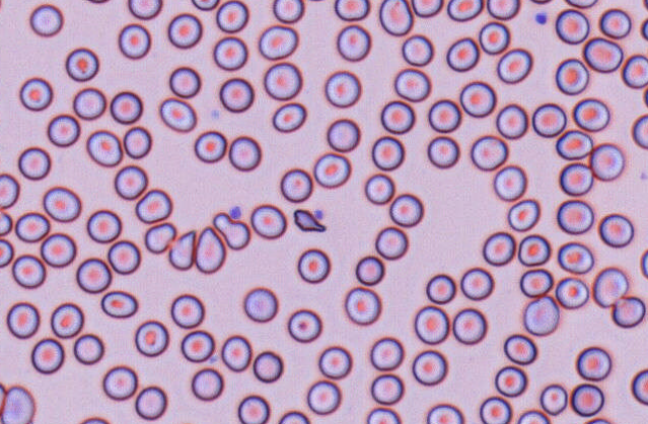PLT: (533, 8, 549, 25), (227, 205, 242, 219), (313, 208, 325, 221)
RBC: (522, 295, 559, 336), (582, 36, 623, 73), (343, 286, 381, 325), (263, 62, 302, 100), (592, 266, 628, 307), (258, 24, 298, 60), (413, 305, 449, 344), (42, 186, 81, 222), (324, 70, 361, 107), (86, 129, 122, 167), (411, 349, 447, 386), (470, 134, 507, 170), (313, 152, 350, 188), (459, 80, 495, 117), (0, 385, 35, 423), (134, 319, 169, 357), (556, 199, 594, 234), (589, 143, 624, 181), (75, 257, 111, 293), (242, 286, 278, 322), (250, 203, 286, 239), (135, 188, 172, 223), (336, 24, 371, 61), (159, 97, 196, 132), (6, 301, 40, 339), (555, 57, 589, 95), (572, 97, 610, 131), (306, 379, 341, 415), (40, 232, 76, 267), (575, 346, 611, 381), (496, 48, 532, 83), (167, 12, 202, 48), (30, 337, 64, 374), (452, 307, 486, 344), (393, 68, 430, 102), (11, 253, 46, 288), (102, 365, 137, 400), (219, 77, 254, 112), (531, 102, 566, 137), (50, 302, 84, 338), (113, 164, 147, 200), (555, 8, 589, 44), (598, 213, 634, 247), (493, 164, 526, 201), (557, 241, 594, 274), (220, 334, 252, 372), (170, 293, 204, 328), (296, 248, 330, 283), (558, 162, 593, 196), (86, 209, 121, 243), (287, 308, 322, 342), (326, 117, 360, 152), (378, 0, 412, 35), (212, 36, 247, 70), (228, 135, 261, 171), (495, 103, 528, 139), (118, 23, 151, 59), (190, 367, 224, 401), (427, 98, 461, 132), (318, 345, 352, 379), (369, 336, 403, 370), (374, 226, 408, 260), (17, 146, 51, 180), (389, 193, 423, 227), (29, 3, 63, 37), (380, 100, 414, 134), (65, 47, 99, 81), (180, 329, 215, 362), (134, 385, 167, 420), (107, 239, 140, 274), (371, 135, 404, 170), (482, 231, 515, 266), (19, 76, 52, 111), (555, 129, 592, 160), (611, 295, 645, 328), (570, 383, 604, 416), (460, 267, 494, 300), (279, 168, 312, 202), (555, 276, 589, 309), (47, 113, 80, 147), (72, 87, 106, 120), (109, 90, 142, 124), (446, 37, 479, 71), (14, 211, 50, 242), (193, 130, 226, 163), (503, 333, 537, 365), (100, 290, 138, 318), (494, 365, 527, 397), (370, 373, 403, 405), (427, 135, 459, 168), (517, 234, 550, 266), (215, 0, 248, 32), (507, 199, 539, 231), (168, 66, 200, 98), (401, 34, 433, 66), (478, 21, 509, 54), (122, 125, 152, 159), (272, 102, 306, 132), (73, 333, 104, 365), (252, 350, 283, 382), (598, 8, 631, 38), (519, 268, 553, 297), (425, 273, 456, 304), (237, 394, 270, 423), (364, 173, 394, 204), (539, 383, 567, 415), (355, 255, 384, 285), (479, 396, 511, 423), (622, 54, 647, 88), (446, 0, 482, 21), (426, 403, 463, 423), (272, 0, 304, 23), (334, 0, 369, 21), (0, 172, 19, 208), (127, 0, 162, 19), (486, 0, 519, 19), (631, 368, 647, 405), (631, 113, 647, 149), (366, 407, 400, 423), (411, 0, 443, 17), (516, 409, 550, 423), (277, 410, 310, 423), (0, 238, 13, 267), (0, 210, 12, 236), (190, 0, 219, 10), (564, 0, 598, 8), (78, 416, 110, 423), (640, 248, 647, 278), (0, 383, 6, 415), (583, 417, 611, 423), (640, 17, 647, 40), (642, 85, 648, 107), (82, 0, 110, 4), (529, 0, 553, 4), (642, 0, 648, 9), (306, 0, 329, 2)
Schistocyte: (213, 211, 251, 251), (195, 226, 226, 273), (168, 229, 197, 271), (145, 224, 176, 254), (292, 207, 327, 233)
